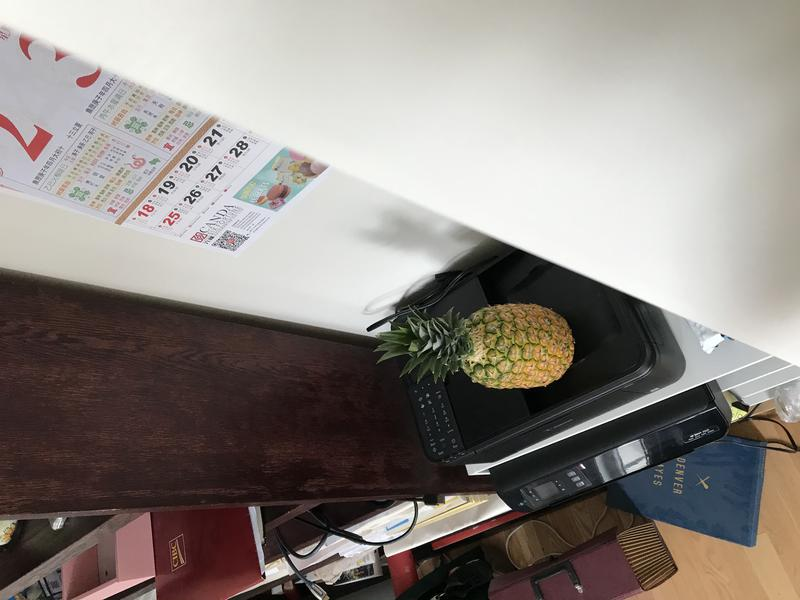pineapple: (368, 295, 583, 394)
